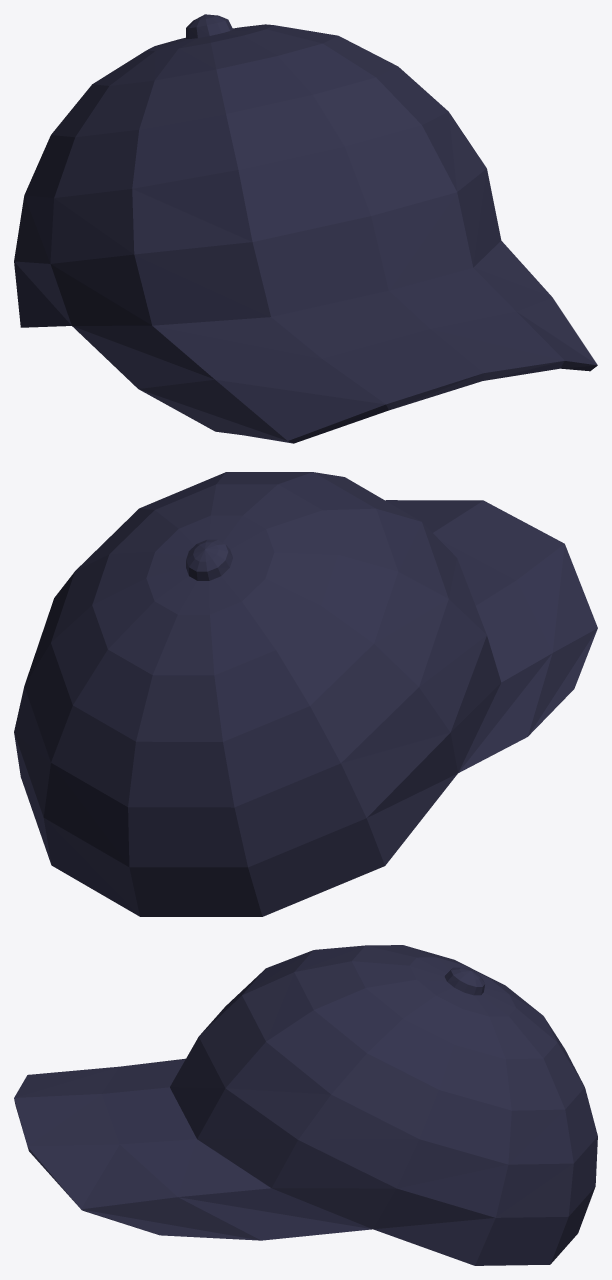
The model's file is baseball_hat.glb.
The picture shows the model from 3 angles, top to bottom: view 1: azimuth 30°, elevation 25°; view 2: azimuth 150°, elevation 25°; view 3: azimuth 270°, elevation 25°; orthographic projection. The views are drawn at different scales.
Parts seen in each view (by area): view 1: baseball_hat; view 2: baseball_hat; view 3: baseball_hat.
Part boxes in pixels (x1=…): baseball_hat: x1=14, y1=14, x2=597, y2=443; baseball_hat: x1=14, y1=472, x2=597, y2=916; baseball_hat: x1=14, y1=945, x2=597, y2=1265.
Bounding box in the file's own units: 0.6857 × 0.5431 × 1.06.
